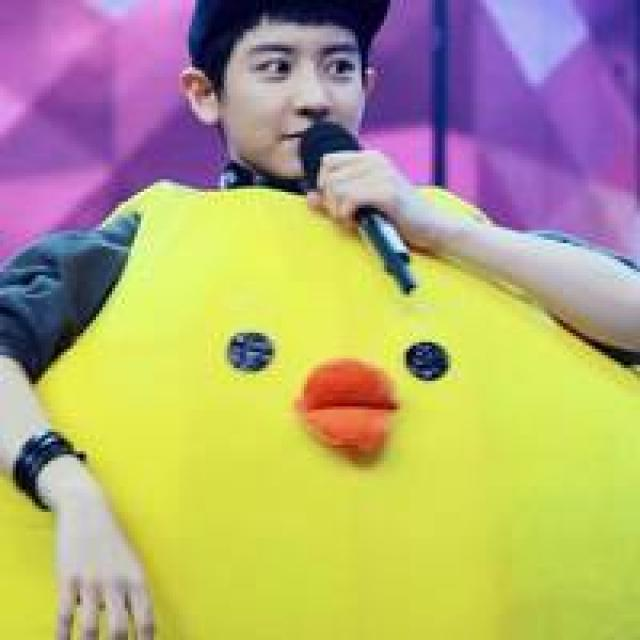nomask: (220, 13, 362, 179)
